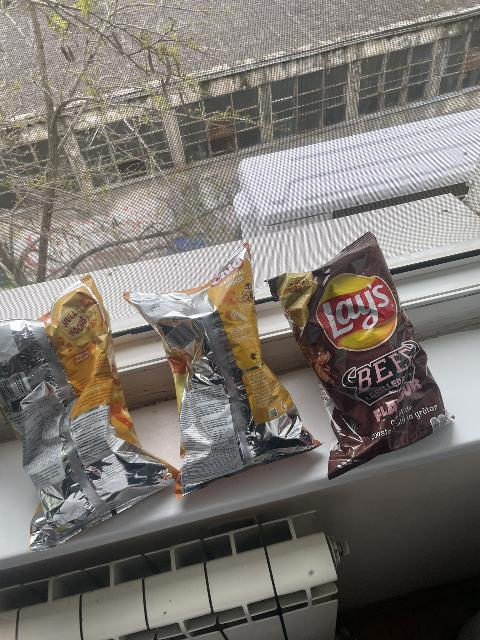Chio Cascaval 125g: (125, 257, 318, 490)
Chio Hula Hoops Cheese 70g: (2, 284, 181, 542)
Lays Beef Grilled Ribs 125g: (288, 238, 454, 472)
